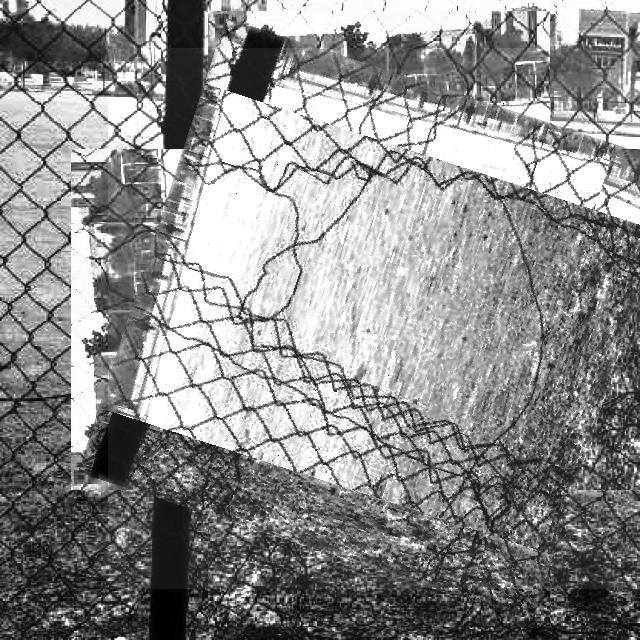anomaly-fence: (108, 48, 640, 589)
